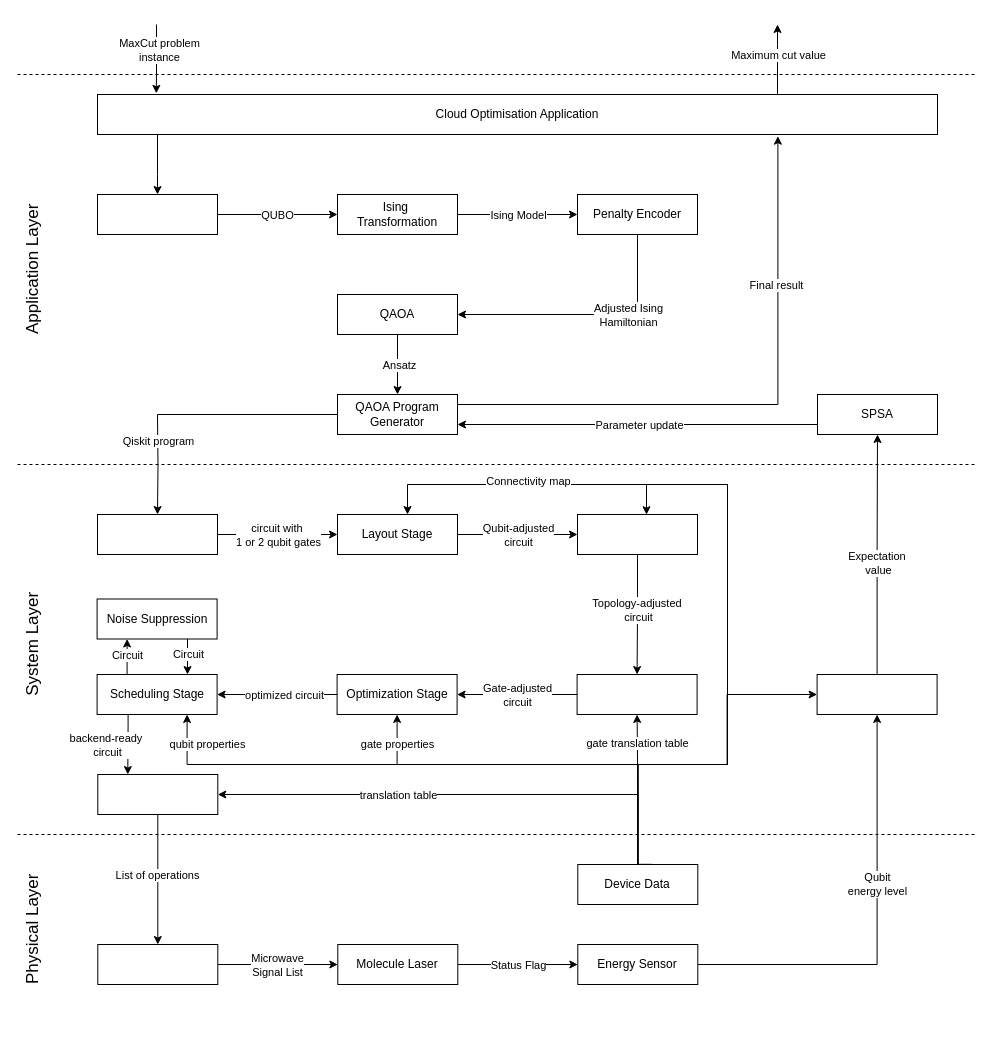
The diagram is 997 pixels wide and 1041 high, and some of its shapes have lost their labels. Here are the shapes that lost their labels. From the top down, the centre of each, then its label:
the point at 157,214: QUBO Transformation
the point at 157,534: Initialization Stage
the point at 637,534: Routing Stage
the point at 636,694: Translation Stage
the point at 876,694: Transpilation
the point at 157,794: Circuit-Command mapping
the point at 157,964: Superconducting Device and Firmware
